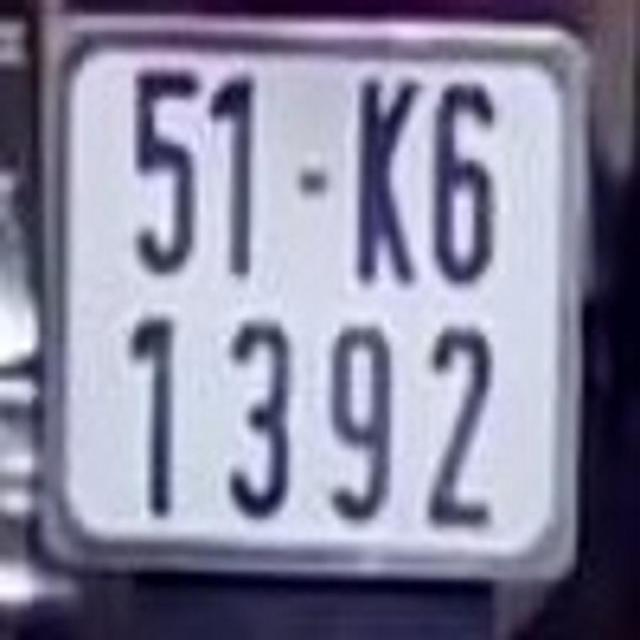1: (206, 66, 266, 277), (126, 308, 180, 518)
2: (427, 320, 493, 525)
3: (224, 316, 290, 514)
5: (131, 59, 197, 282)
6: (429, 79, 496, 284)
9: (332, 322, 394, 517)
K: (351, 67, 418, 287)
